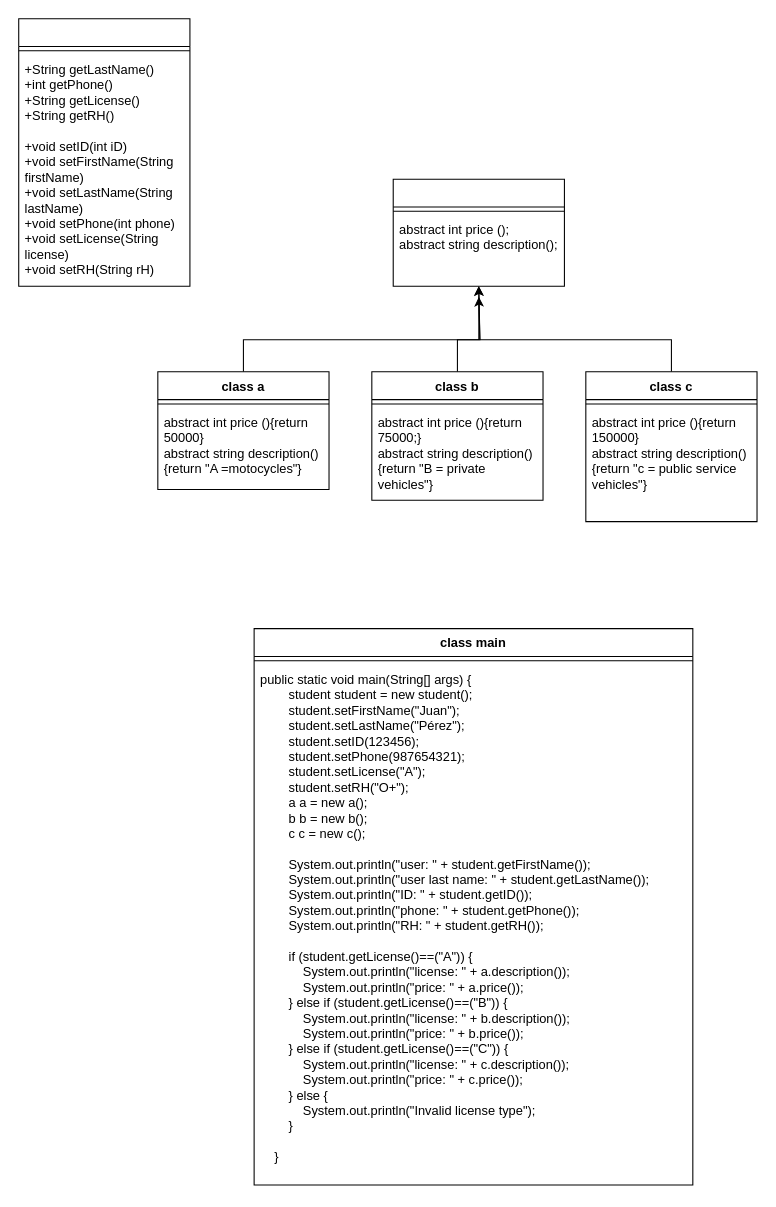
The diagram is 776 pixels wide and 1207 high, and some of its shapes have lost their labels. Here are the shapes that lost their labels. From the top down, the box of each, then its label:
(18, 18, 190, 286): Class studiant
(392, 178, 564, 286): abstract class license
